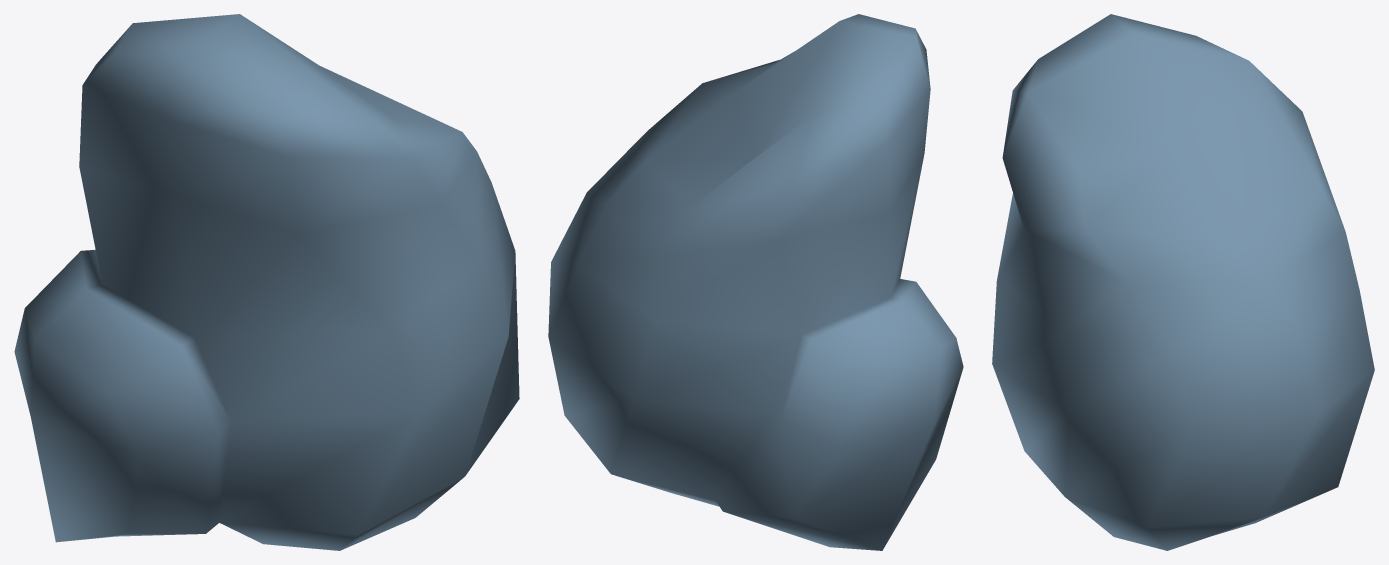
File: SM_rock_small.fbx
The picture shows the model from 3 angles, left to right: view 1: azimuth 30°, elevation 25°; view 2: azimuth 150°, elevation 25°; view 3: azimuth 270°, elevation 25°; orthographic projection. The views are drawn at different scales.
Parts seen in each view (by area): view 1: SM_rock_small; view 2: SM_rock_small; view 3: SM_rock_small.
Part boxes in pixels (left/top/right/bottom): SM_rock_small: left=14, top=14, right=519, bottom=550; SM_rock_small: left=548, top=14, right=963, bottom=550; SM_rock_small: left=992, top=14, right=1374, bottom=550.
Bounding box in the file's own units: 76.08 × 86.2 × 65.34.
